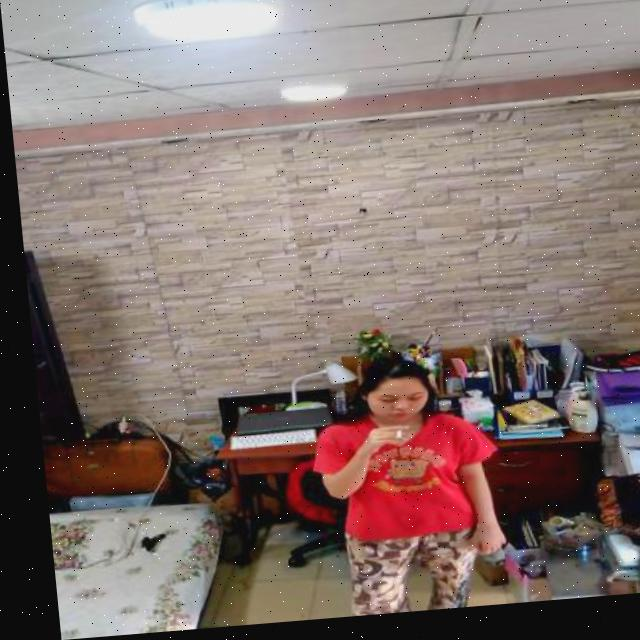cigarette: (386, 433, 395, 447)
